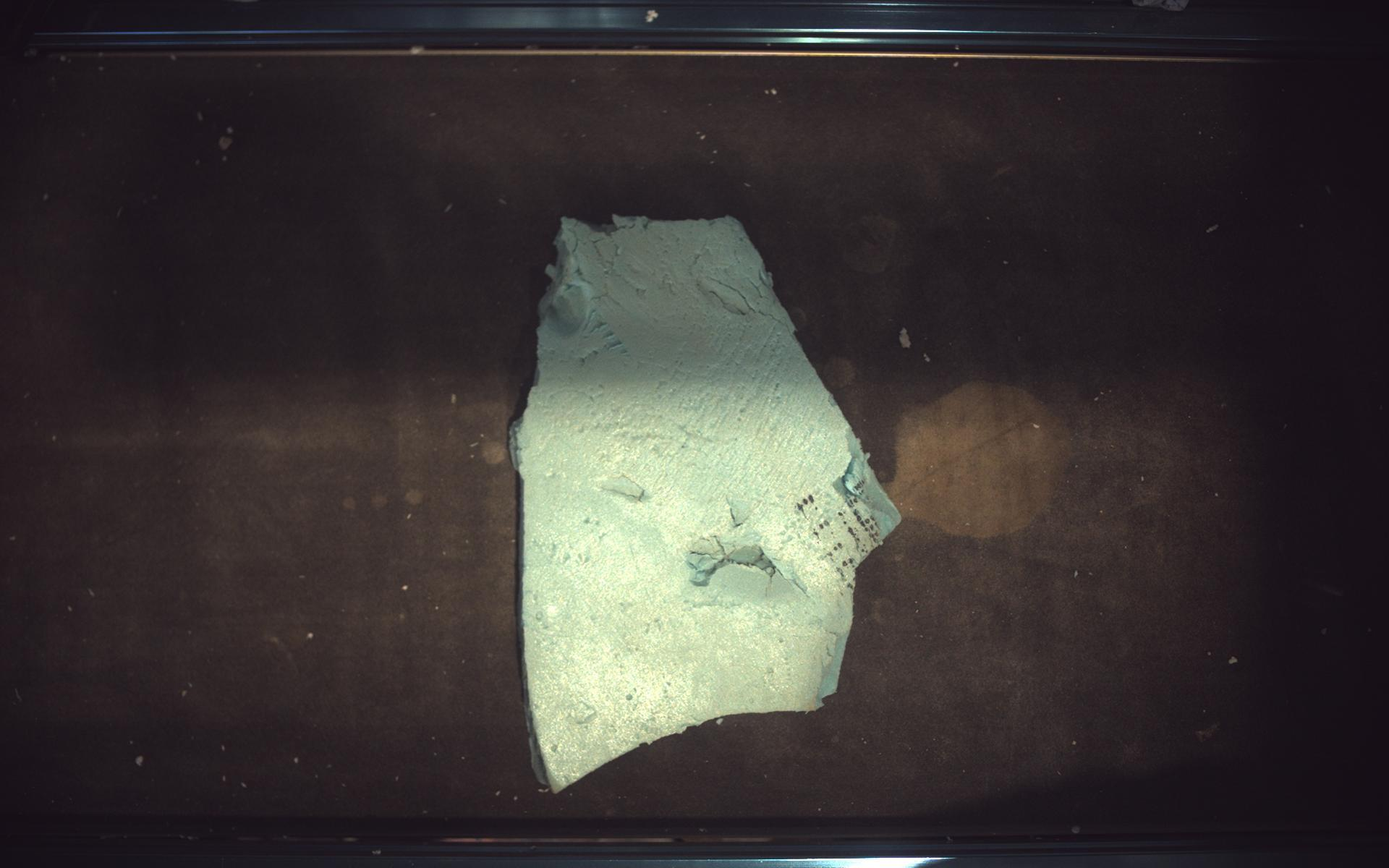foam: (511, 216, 902, 793)
